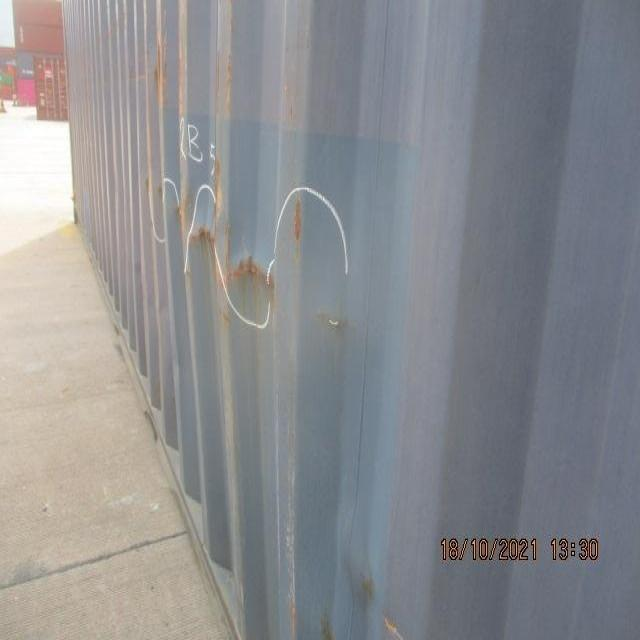dent: (136, 176, 283, 314), (333, 518, 373, 612)
